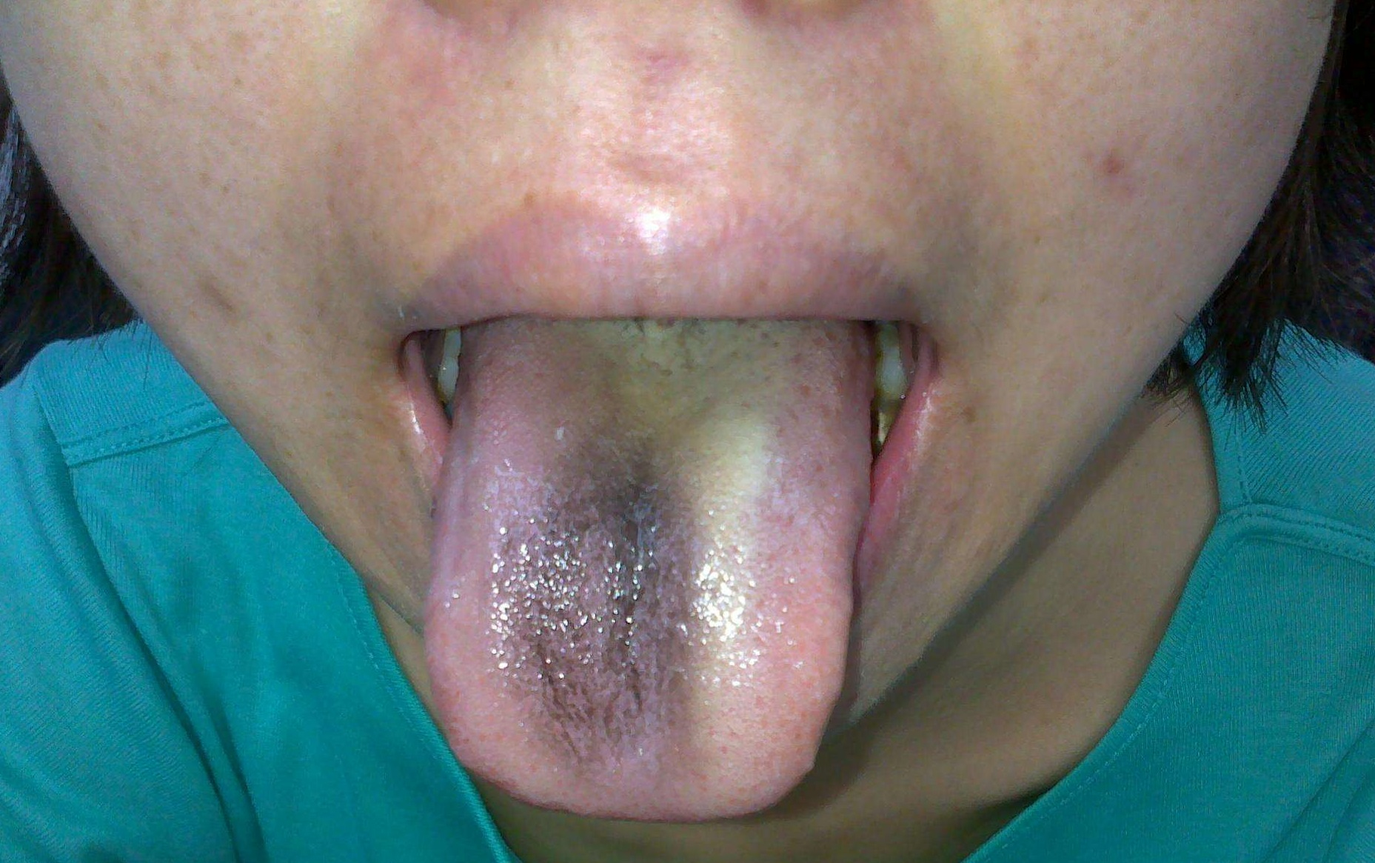heitaishe: (425, 320, 878, 818)
huangtaishe: (426, 321, 880, 819)
